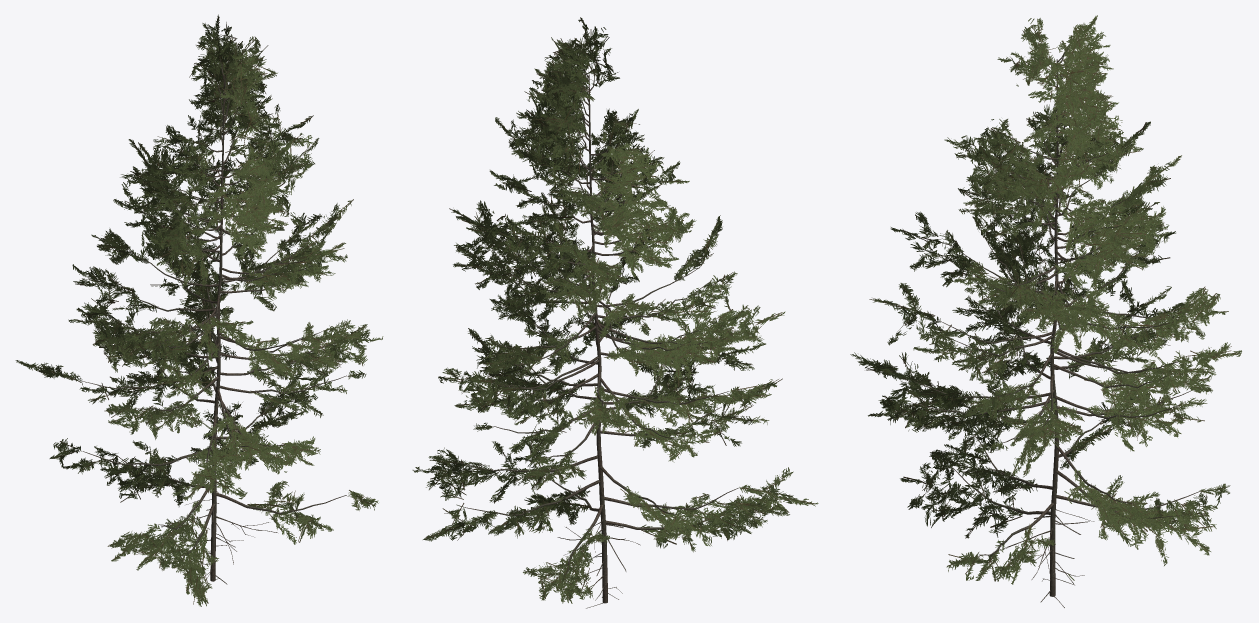
3 renders of one model, left to right at view 1: azimuth 30°, elevation 25°; view 2: azimuth 150°, elevation 25°; view 3: azimuth 270°, elevation 25°, orthographic. The views are drawn at different scales.
Visible parts, largest first — view 1: fir_sapling_medium__a_lod0; view 2: fir_sapling_medium__a_lod0; view 3: fir_sapling_medium__a_lod0.
Part boxes in pixels (x1,y1,x2,y2): fir_sapling_medium__a_lod0: (15,14,383,606); fir_sapling_medium__a_lod0: (412,17,818,608); fir_sapling_medium__a_lod0: (850,15,1241,607).
Size of the model in its own units: 5.04 by 8.85 by 5.31.
Materials: 2 (2 with a texture image).
